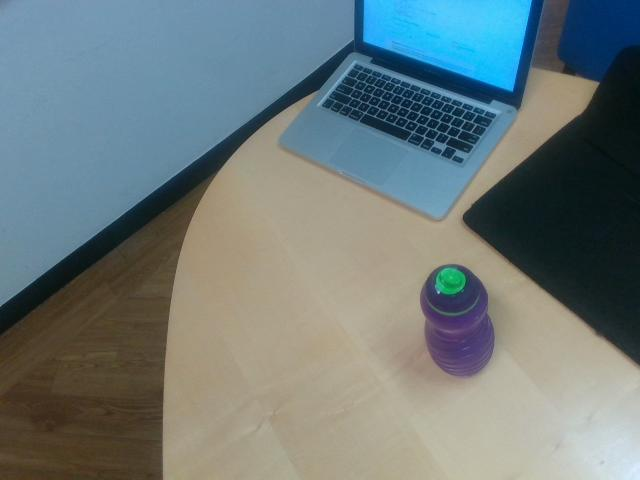bottle: (419, 265, 495, 378)
